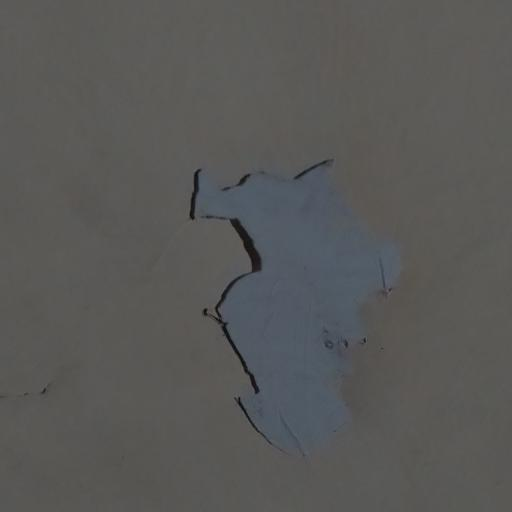peeling: (156, 130, 430, 477)
